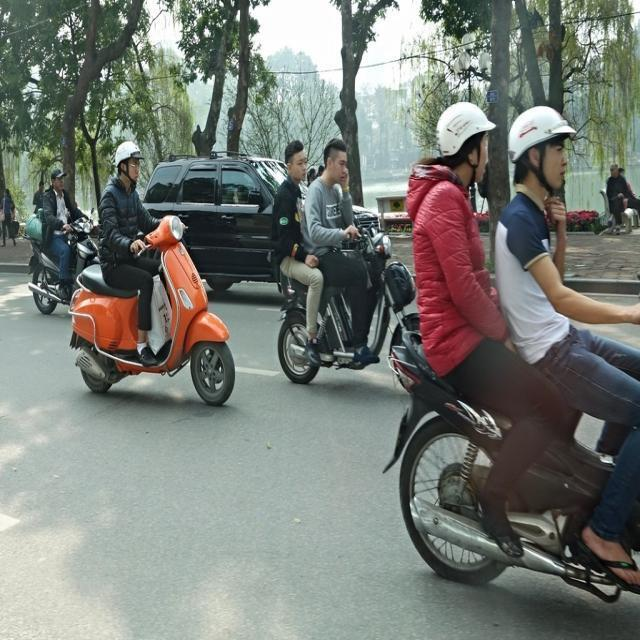car: (125, 159, 310, 293)
motorcycle: (381, 262, 640, 600), (62, 211, 240, 410), (270, 229, 411, 392), (23, 230, 86, 317)
